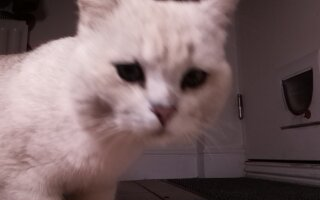bad: (1, 2, 236, 199)
